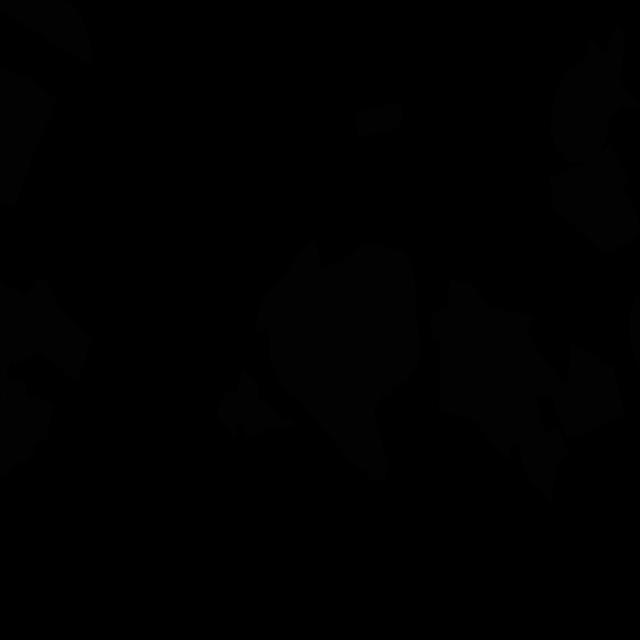cardboard: (430, 278, 624, 503), (256, 240, 421, 481), (550, 26, 640, 163), (548, 143, 640, 252), (0, 279, 54, 463), (9, 275, 92, 380), (0, 62, 58, 208), (0, 0, 94, 65), (217, 367, 295, 439), (0, 399, 25, 478), (356, 102, 403, 138), (10, 331, 40, 362), (629, 294, 640, 368)
